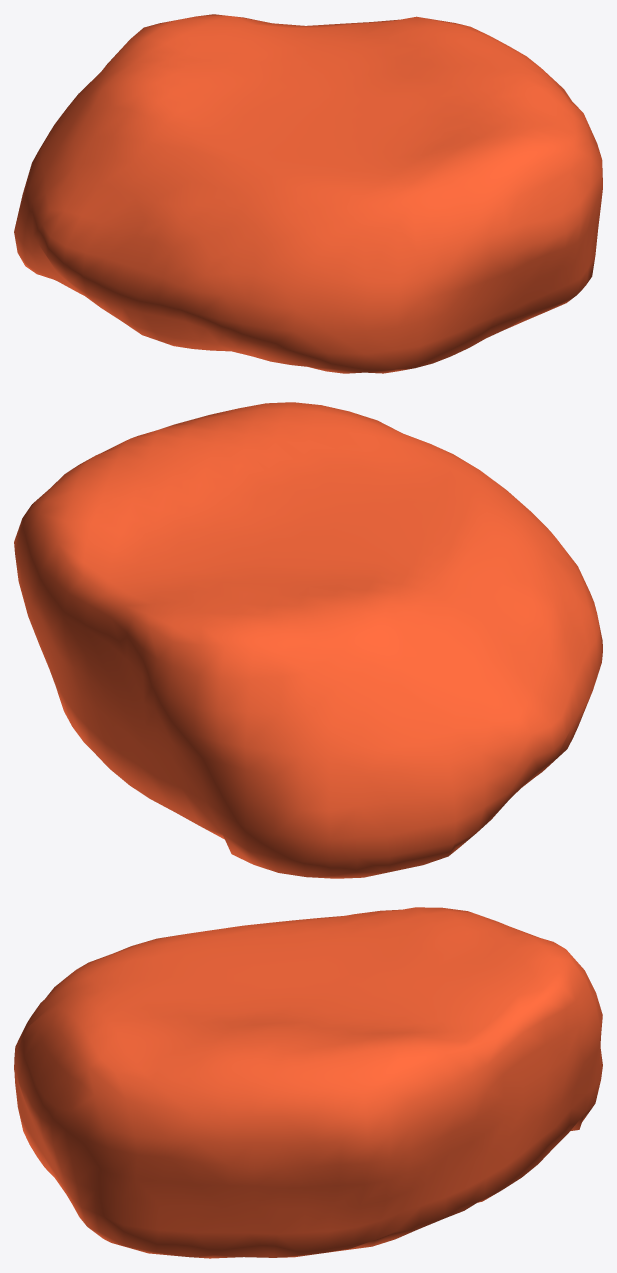
3 renders of one model, top to bottom at view 1: azimuth 30°, elevation 25°; view 2: azimuth 150°, elevation 25°; view 3: azimuth 270°, elevation 25°, orthographic. The views are drawn at different scales.
Parts seen in each view (by area): view 1: Roca22; view 2: Roca22; view 3: Roca22.
Boxes of the visible parts, box(x1,y1,x2,y2) form: Roca22: box(14, 14, 602, 373); Roca22: box(14, 402, 602, 878); Roca22: box(14, 907, 602, 1258).
Bounding box in the file's own units: 185 × 77.11 × 187.
